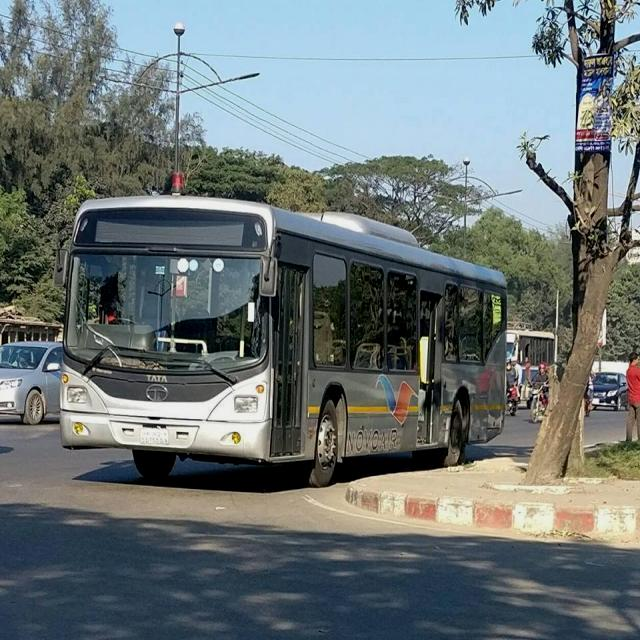bus: (52, 172, 511, 489)
